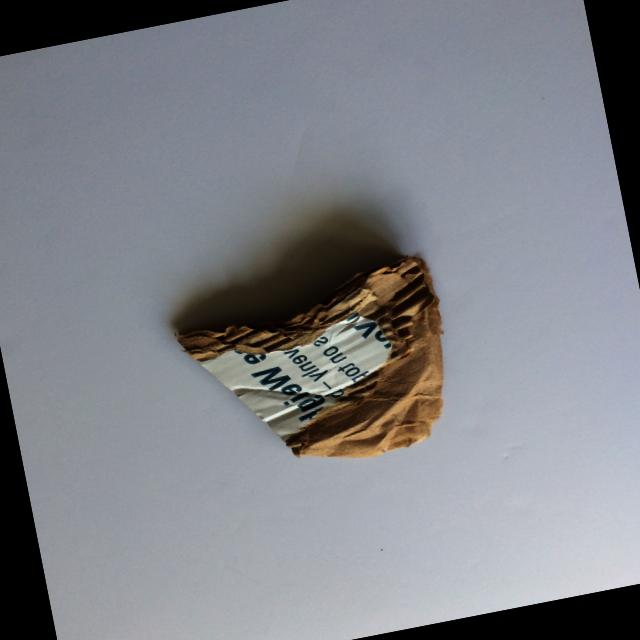Cardboard: (141, 210, 477, 500)
